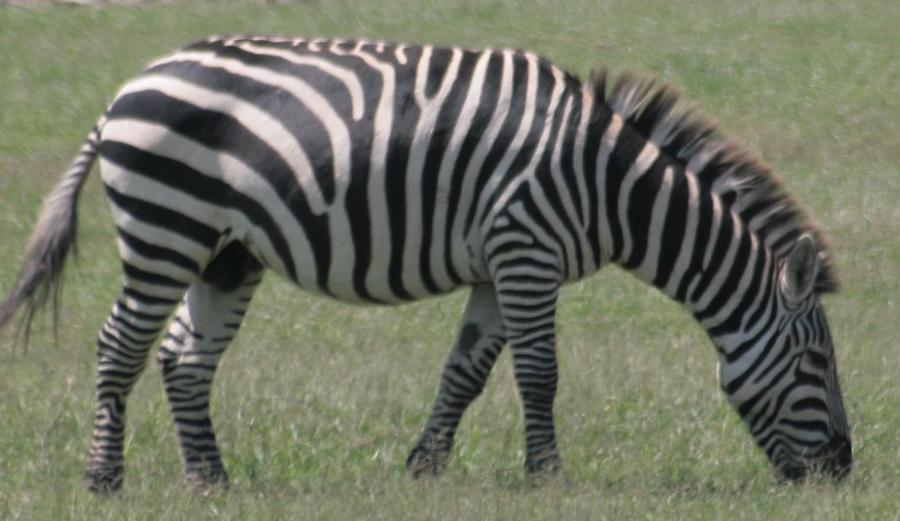zebra_plains: (62, 17, 616, 321)
